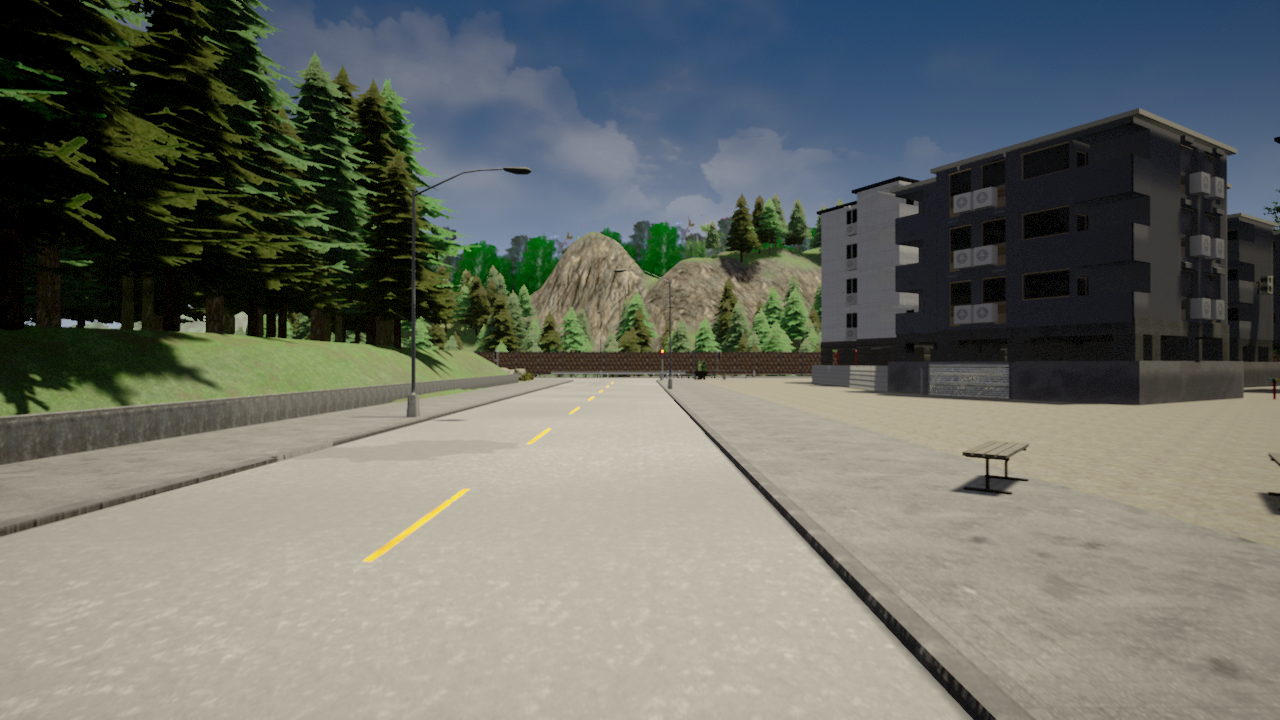red: (660, 348, 665, 361)
